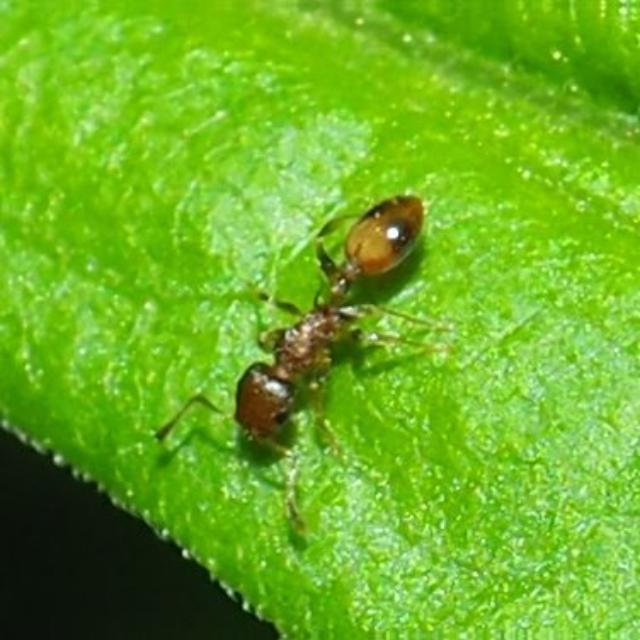Temnothorax: (175, 162, 485, 496)
